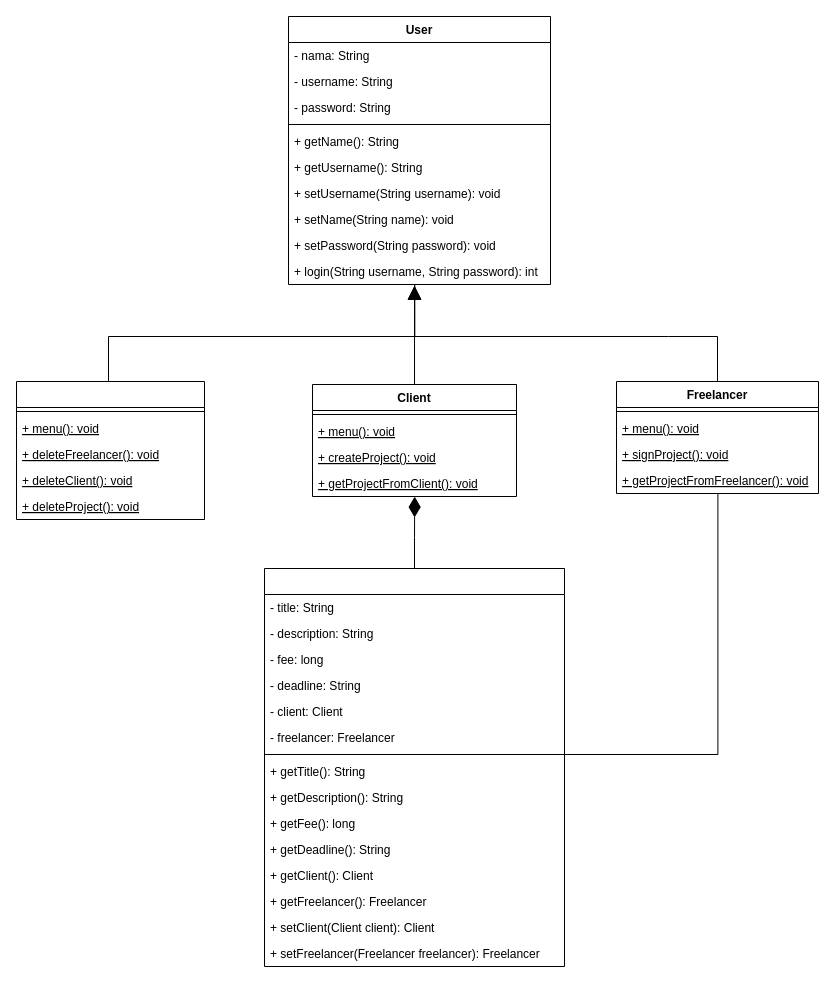
The diagram is 835 pixels wide and 983 high, and some of its shapes have lost their labels. The box of each missing label's shape, as (x1, y1, x2, y2) in pixels:
Admin: (16, 380, 204, 520)
Project: (264, 568, 564, 966)
